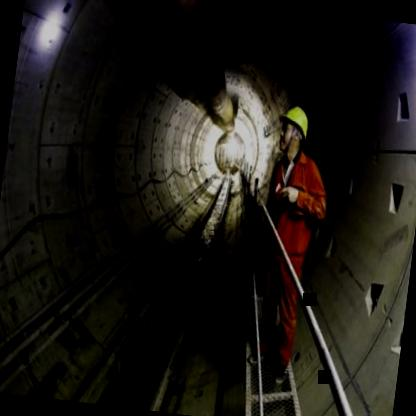helmet: (272, 97, 312, 164)
